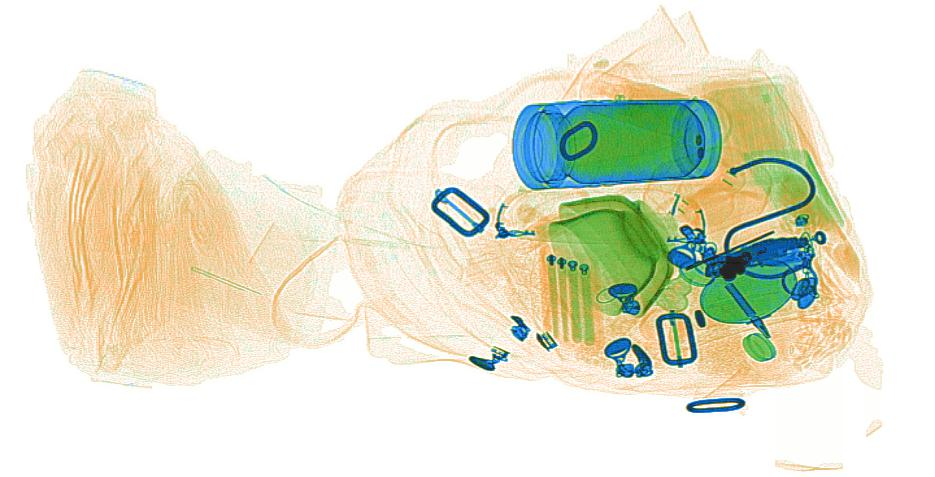plasticBottleWithaNozzle: (576, 69, 719, 143)
